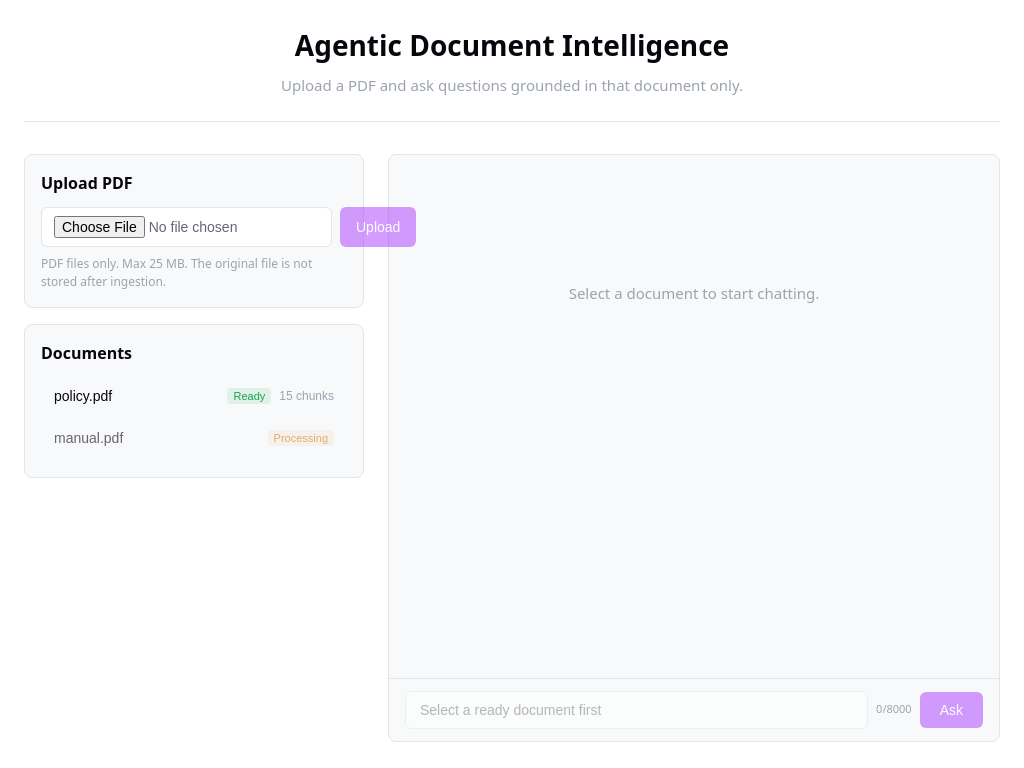
it: App › allows selecting a ready document
What coordinates should you click on to do the following:
click the text "policy.pdf"
I would click on:
 (83, 396)
Its box is [54, 388, 112, 404].
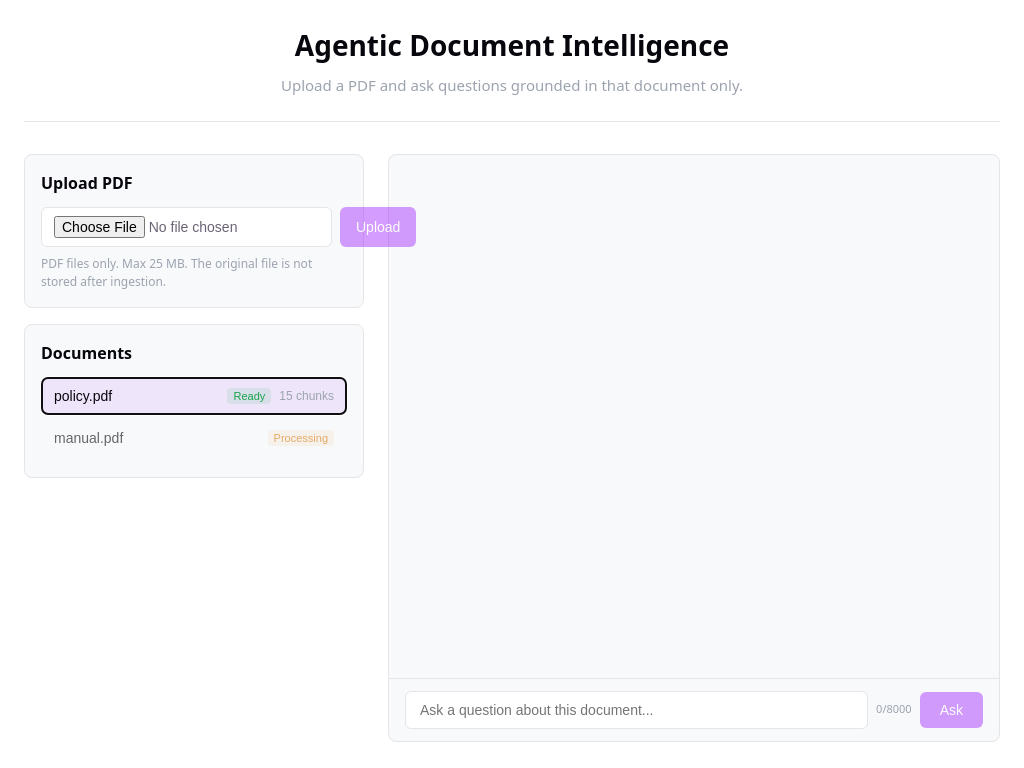
Result: the field named "question input" is enabled at [405, 690, 868, 728]
